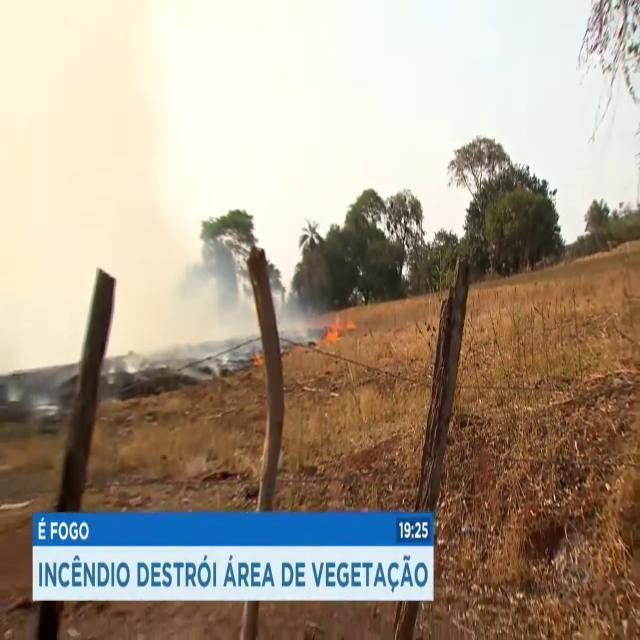Smoke: (0, 0, 236, 371)
